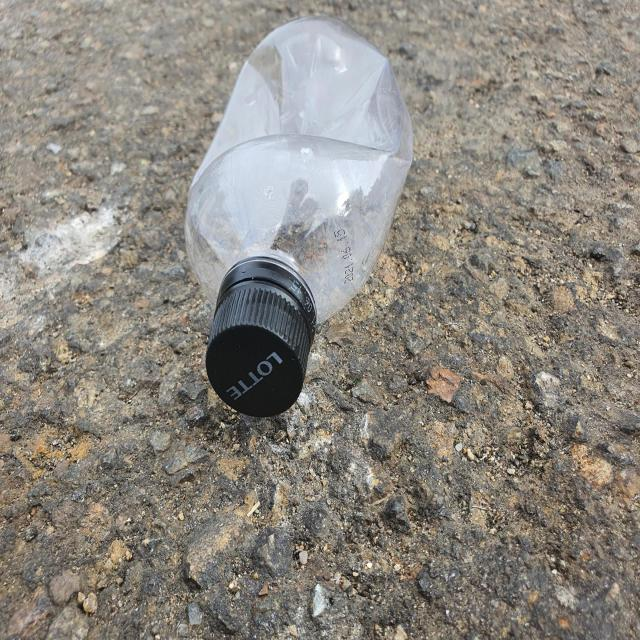plastic: (185, 16, 413, 417)
